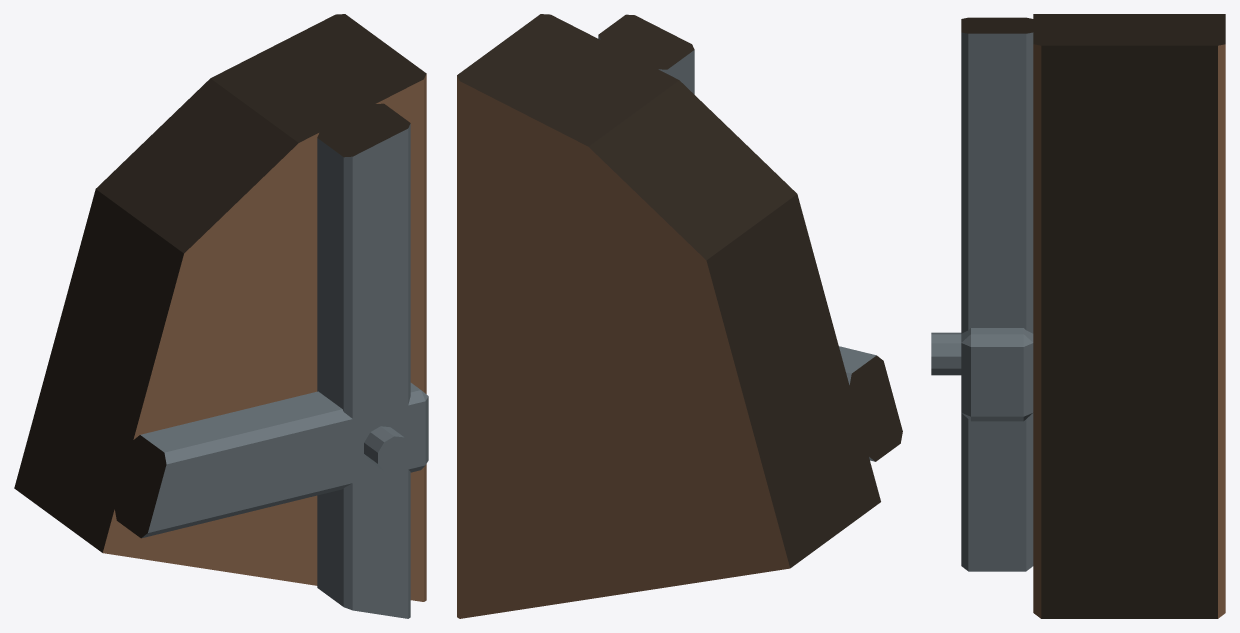
Rendered from SM_DoorShard_01_37.fbx.
3 views of the same model, side by side, from view 1: azimuth 30°, elevation 25°; view 2: azimuth 150°, elevation 25°; view 3: azimuth 270°, elevation 25° (orthographic). The views are drawn at different scales.
Visible parts, largest first — view 1: SM_DoorShard_01_37; view 2: SM_DoorShard_01_37; view 3: SM_DoorShard_01_37.
Boxes of the visible parts, left/top/right/bottom form: SM_DoorShard_01_37: left=14, top=14, right=428, bottom=618; SM_DoorShard_01_37: left=457, top=14, right=902, bottom=618; SM_DoorShard_01_37: left=931, top=14, right=1225, bottom=618.
Size of the model in its own units: 34.22 by 24.5 by 52.61.
